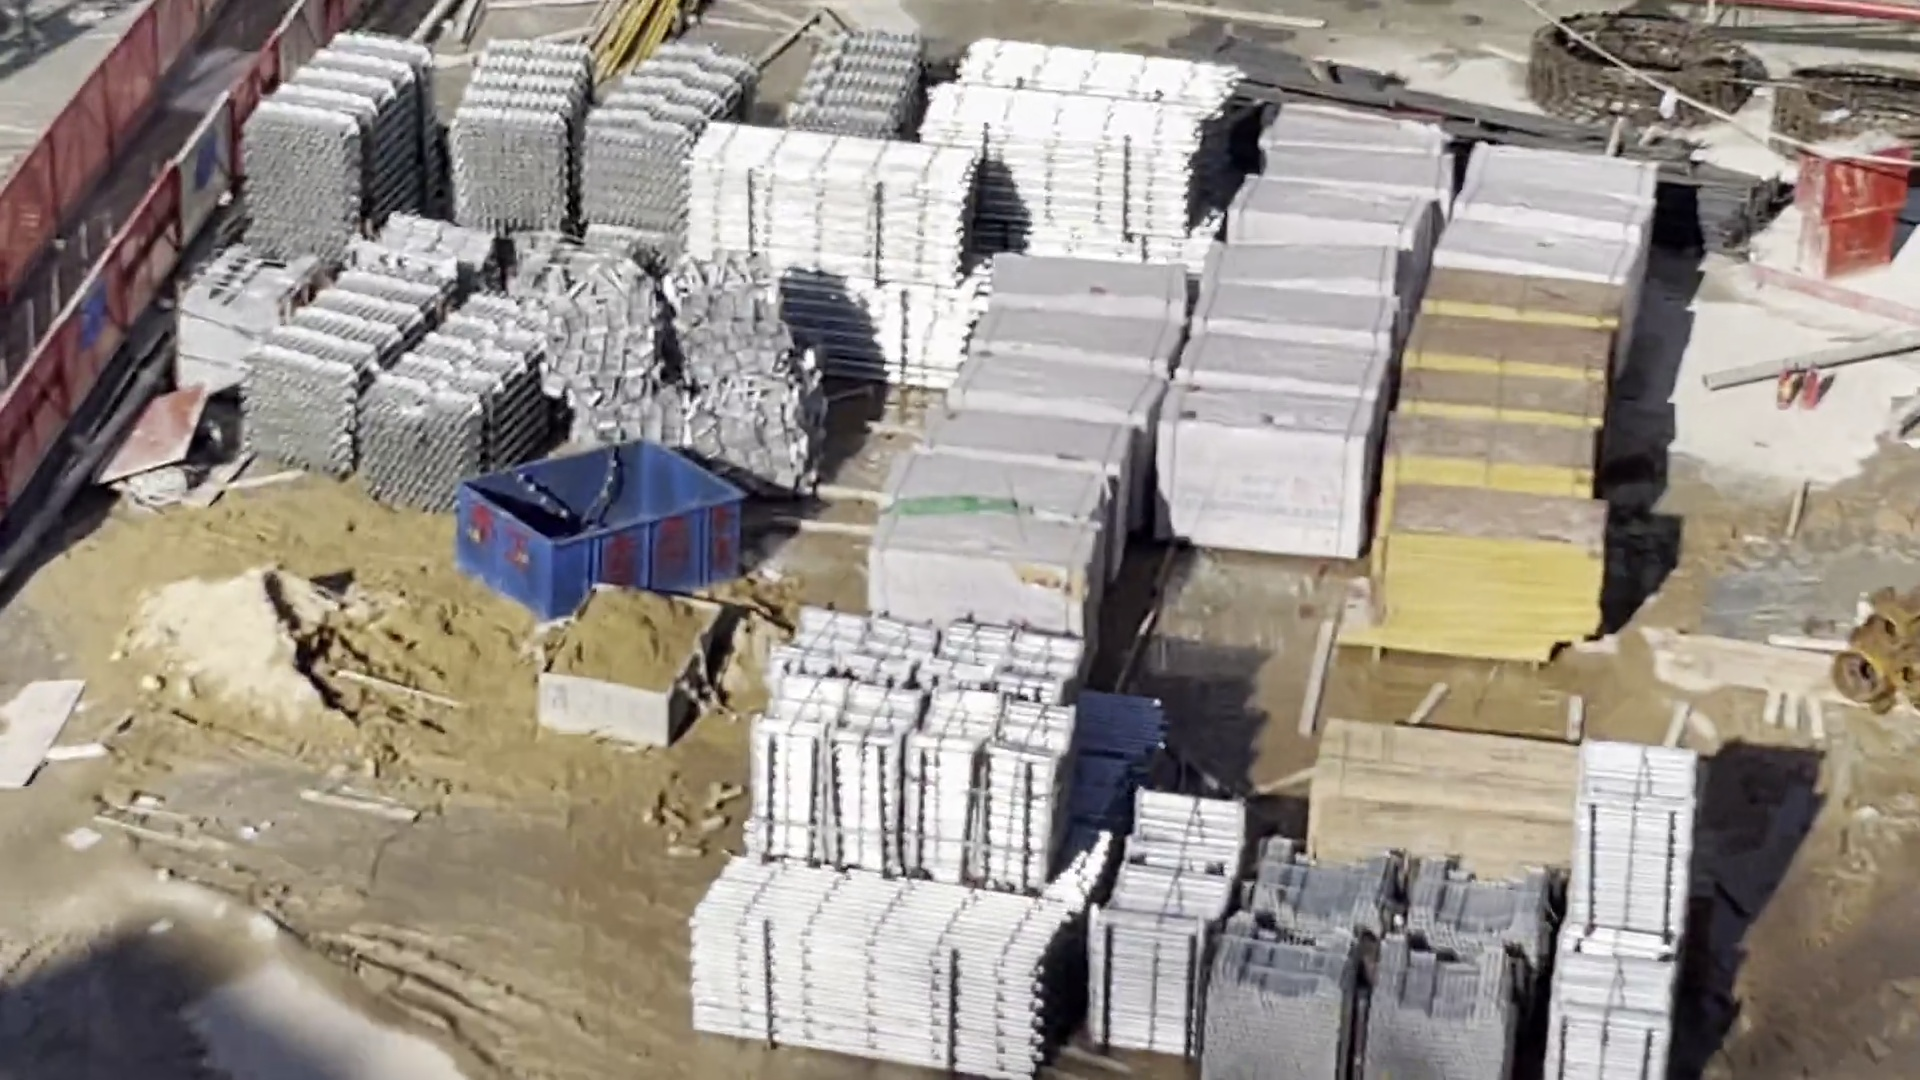board: (1369, 276, 1597, 654), (1323, 723, 1569, 869)
fence: (3, 1, 320, 520)
hopper: (458, 443, 744, 622), (541, 583, 724, 750)
rebar: (1283, 91, 1779, 249)
scaffold: (686, 858, 1073, 1080), (752, 611, 1073, 877), (1197, 851, 1551, 1080), (688, 123, 967, 389), (928, 50, 1236, 269), (252, 273, 554, 492), (456, 45, 756, 239), (1553, 738, 1677, 1080), (1088, 796, 1244, 1054), (248, 41, 435, 239), (789, 29, 927, 138)
slogan: (76, 277, 105, 345)
